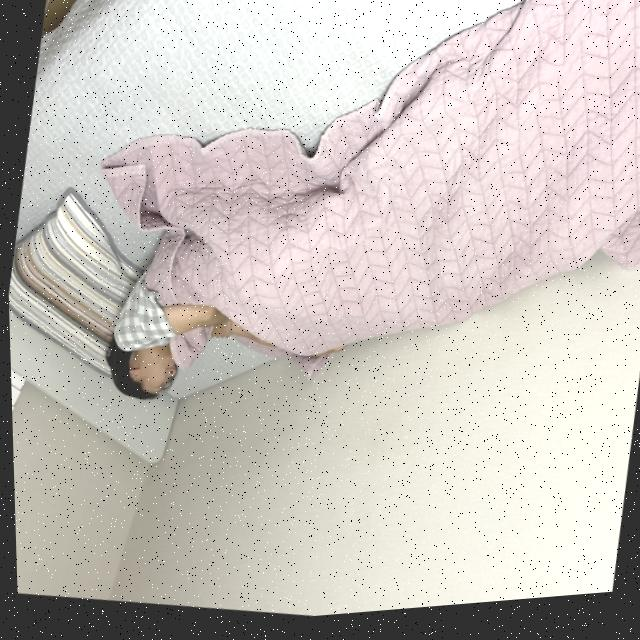sleeping-person: (78, 0, 640, 515)
